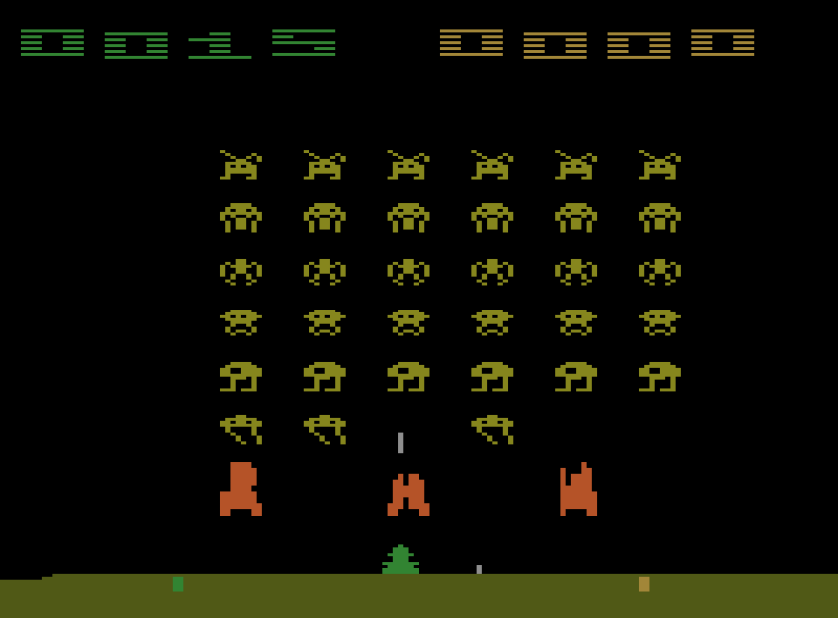bullet: (396, 430, 404, 455), (475, 564, 483, 575)
invader1: (470, 148, 516, 182), (638, 148, 682, 182), (302, 148, 347, 181), (555, 148, 598, 182), (219, 148, 263, 181), (387, 148, 431, 181)
invader2: (385, 200, 431, 234), (469, 201, 516, 234), (218, 200, 263, 234), (302, 201, 348, 234), (638, 201, 682, 234), (553, 202, 598, 234)
invader3: (301, 256, 348, 288), (470, 257, 516, 288), (637, 257, 683, 288), (554, 257, 599, 288), (385, 257, 431, 287), (219, 258, 264, 287)
invader4: (385, 307, 431, 338), (637, 307, 683, 338), (470, 308, 516, 338), (554, 307, 598, 337), (302, 308, 347, 337), (220, 307, 263, 337)
invader5: (301, 359, 348, 394), (552, 359, 599, 394), (384, 359, 431, 393), (470, 360, 516, 393), (637, 360, 683, 393), (219, 361, 264, 393)
invader6: (218, 411, 265, 446), (469, 411, 515, 446), (302, 412, 347, 446)
player: (381, 542, 420, 575)
